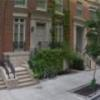stairs: (73, 52, 100, 71)
